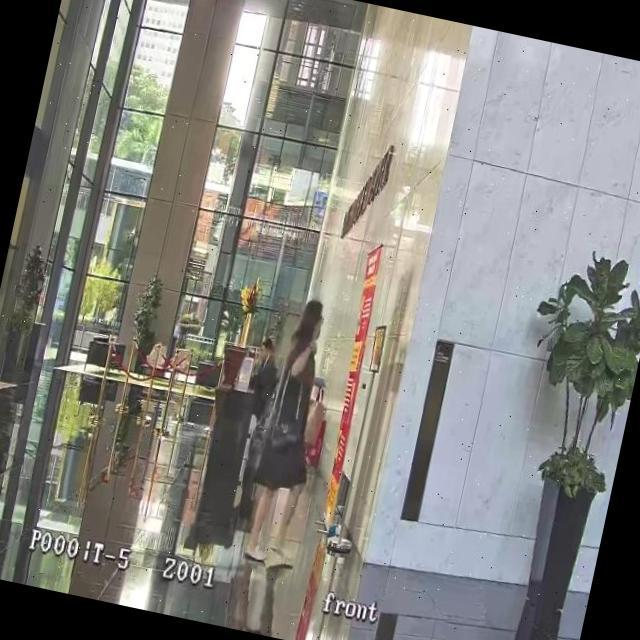person: (235, 294, 343, 569), (249, 337, 280, 402)
